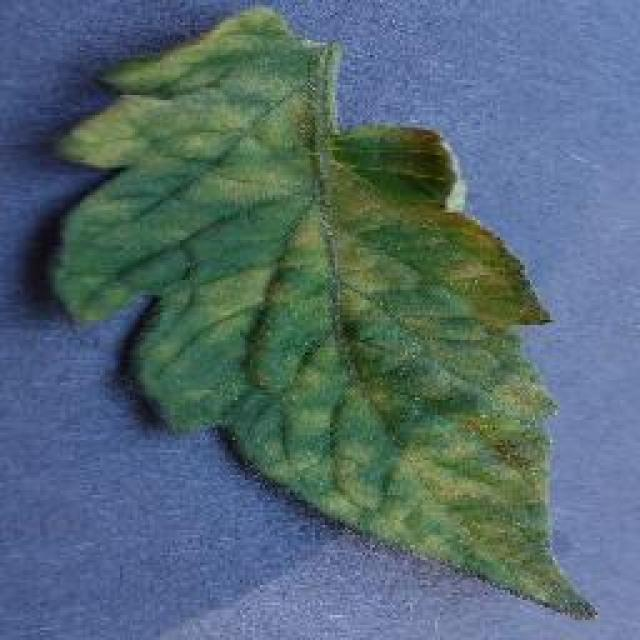Tomato___Leaf_Mold: (52, 8, 592, 612)
